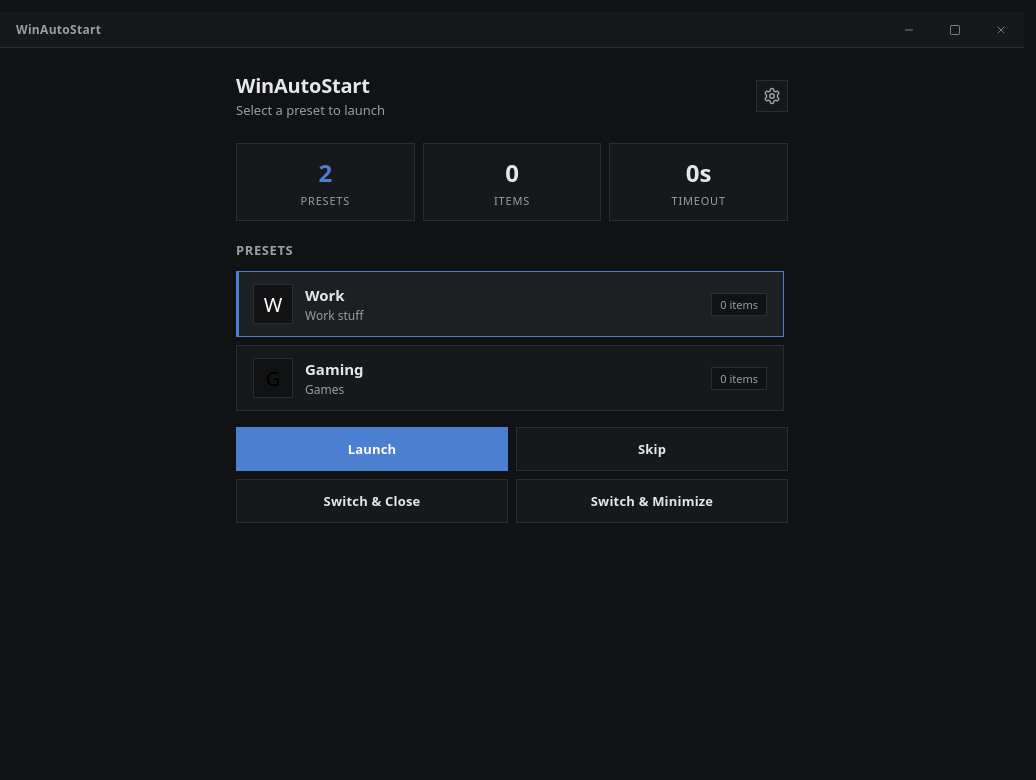
Test: App: settings and presets › persists settings changes and rebuilds the tray
Expected: the text "Select a preset to launch" is shown, [236,101,385,119]
Click the button titled "Settings" at (772, 96), box [756,80,788,112]
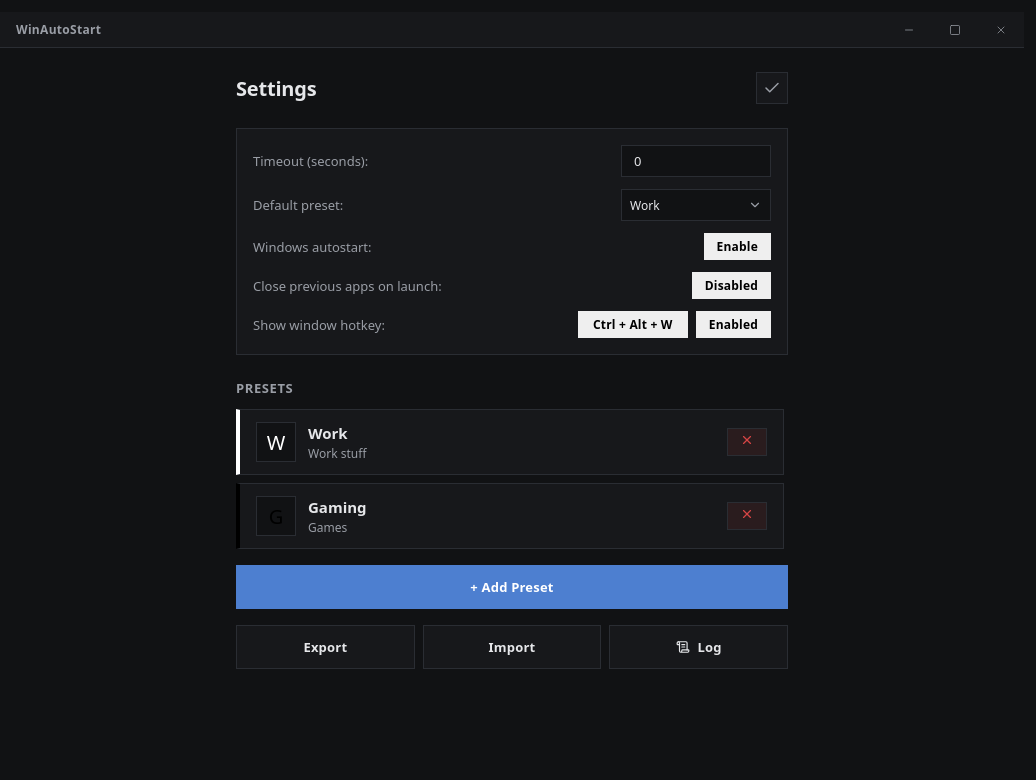
Expected: the heading "Settings" is shown, [236,74,316,102]
Replace the text in the number field labelled "Timeout (seconds):" with "45" at (696, 161), box [621,145,771,177]
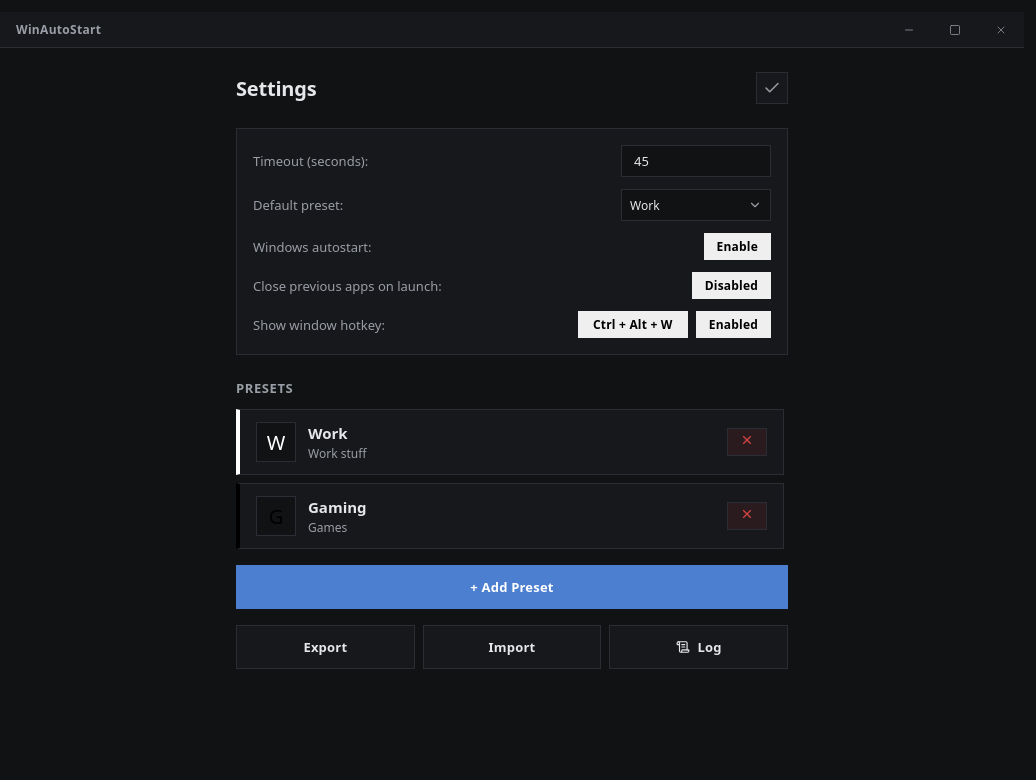
Click the button named "Save settings" at (772, 88), box [756,72,788,104]
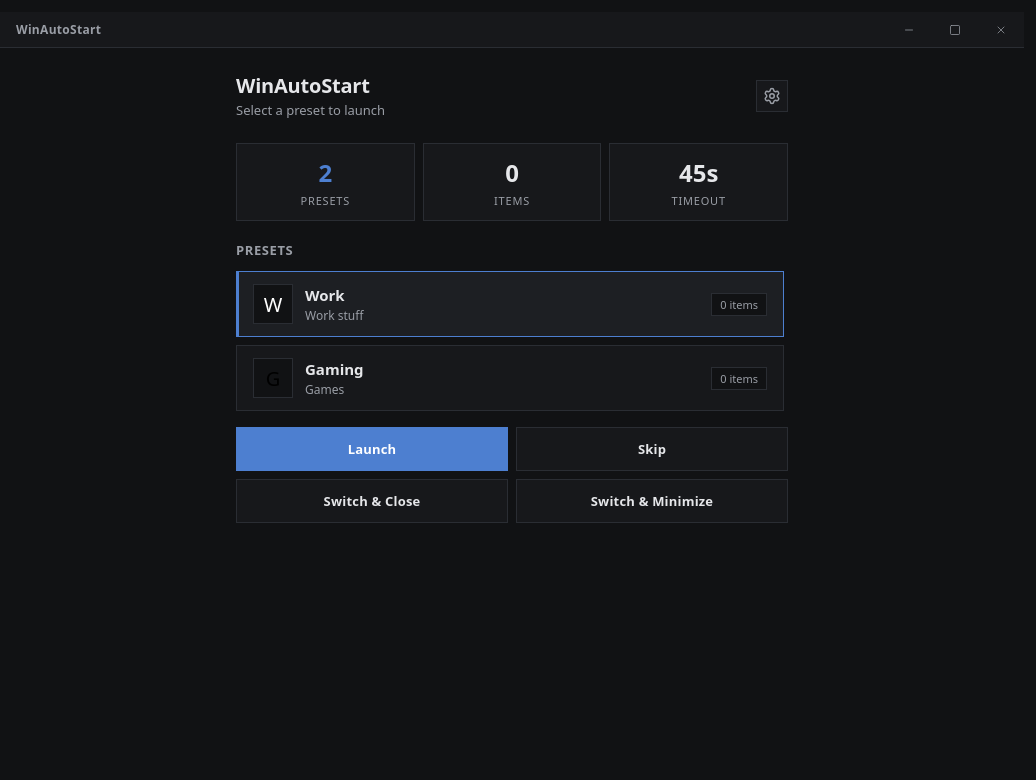
Expected: the text "Select a preset to launch" is shown, [236,101,385,119]
